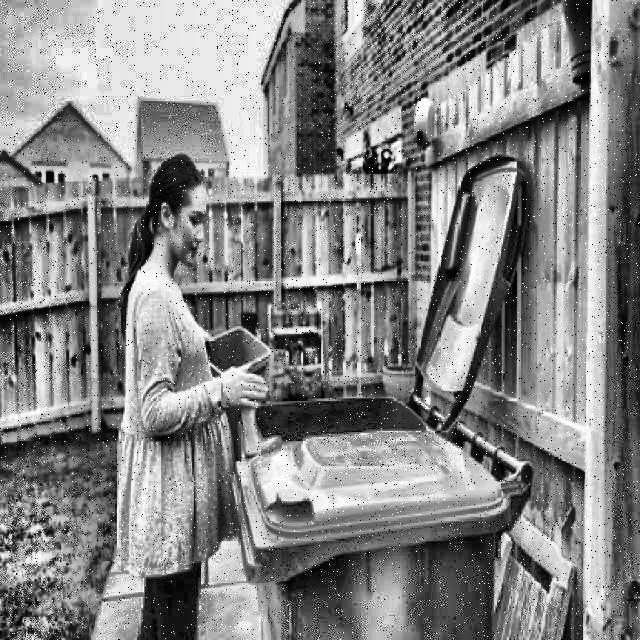Dustbin: (230, 394, 538, 638)
